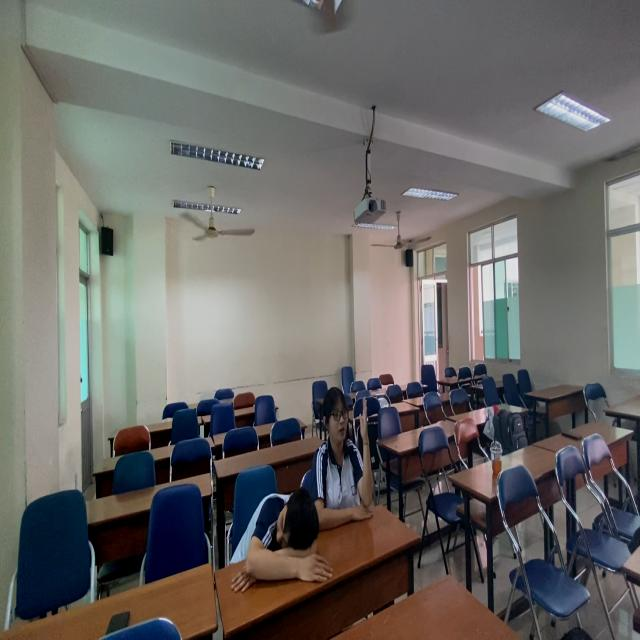raise_hand: (315, 389, 377, 527)
sleep: (217, 483, 330, 587)
